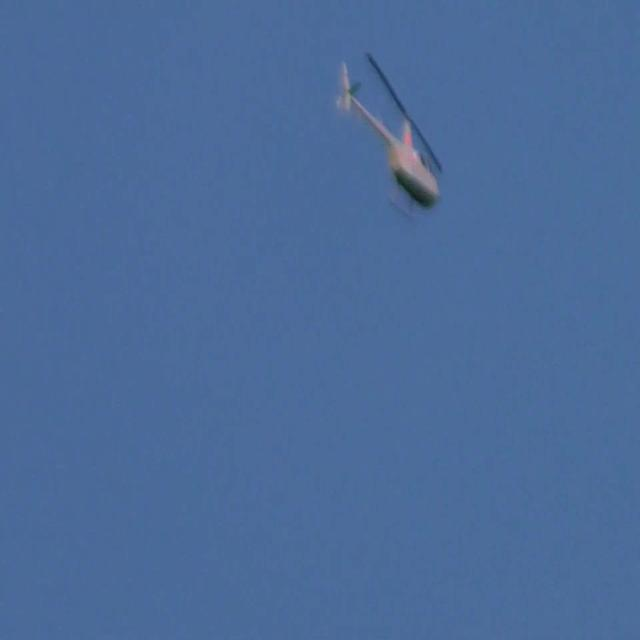CIV_HELO: (335, 46, 441, 225)
